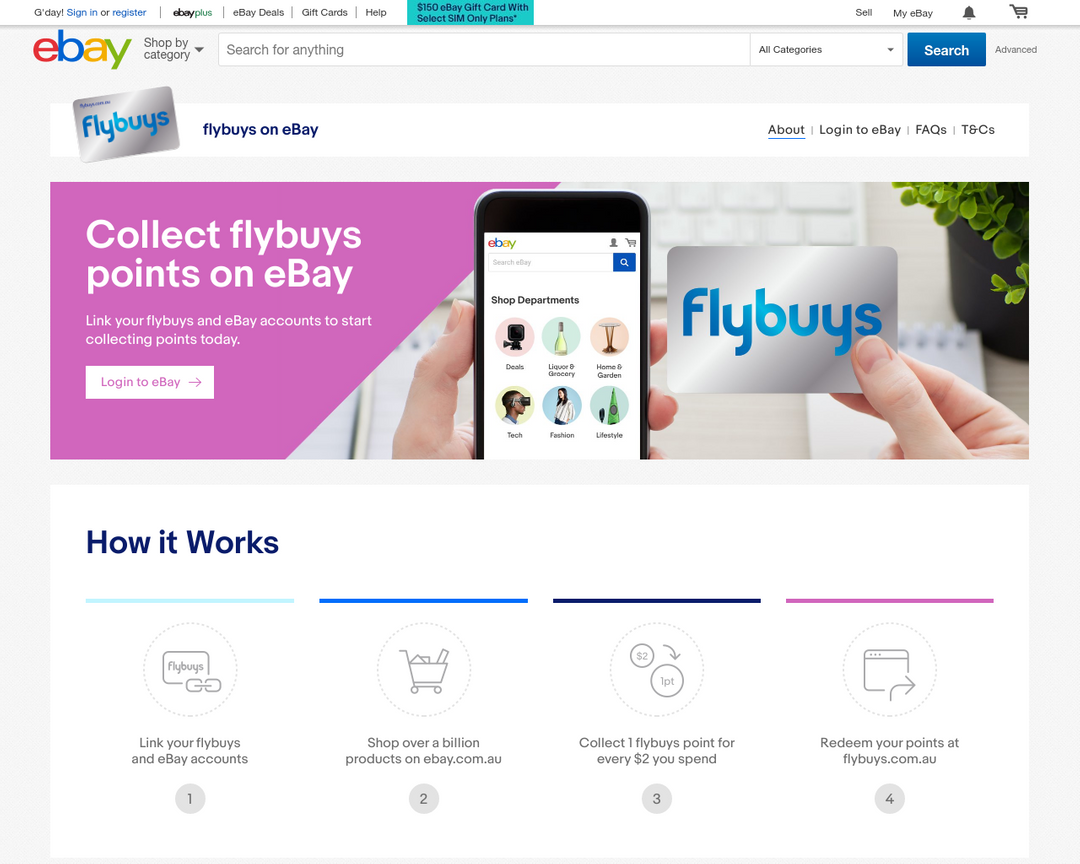Ebay: (25, 28, 136, 74)
